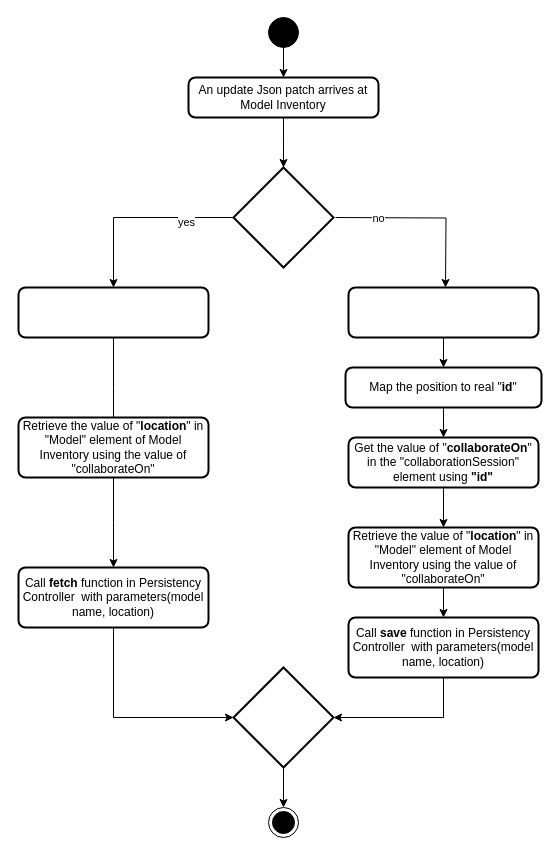
The diagram is 559 pixels wide and 855 high, and some of its shapes have lost their labels. Here are the shapes that lost their labels. From the top down, the centre of each, then its label:
point (283, 217): Is the patch operation equals to "add"
point (113, 312): Get the value of " collaborateOn " in the received patch as model name
point (443, 312): Get the collaboration session position in " path " in the received patch
